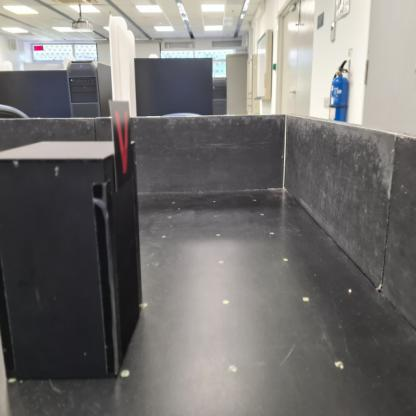v: (110, 98, 136, 194)
